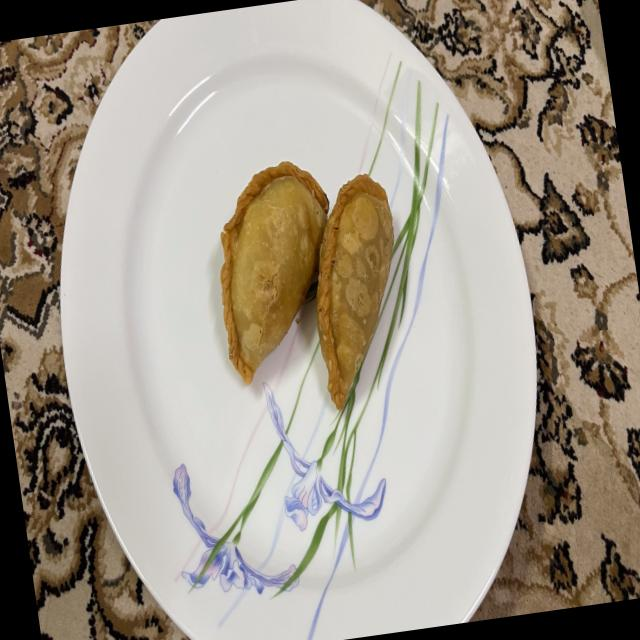karipap: (220, 161, 329, 384), (317, 174, 394, 409)
